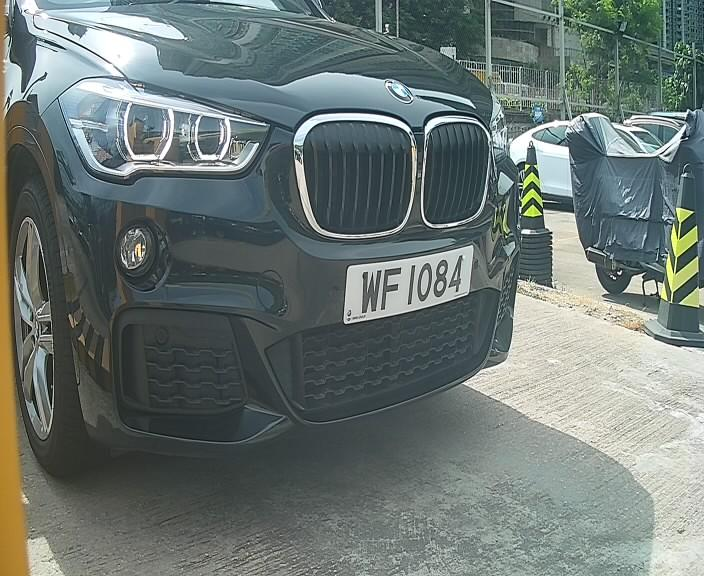License Plate: (337, 237, 478, 327)
